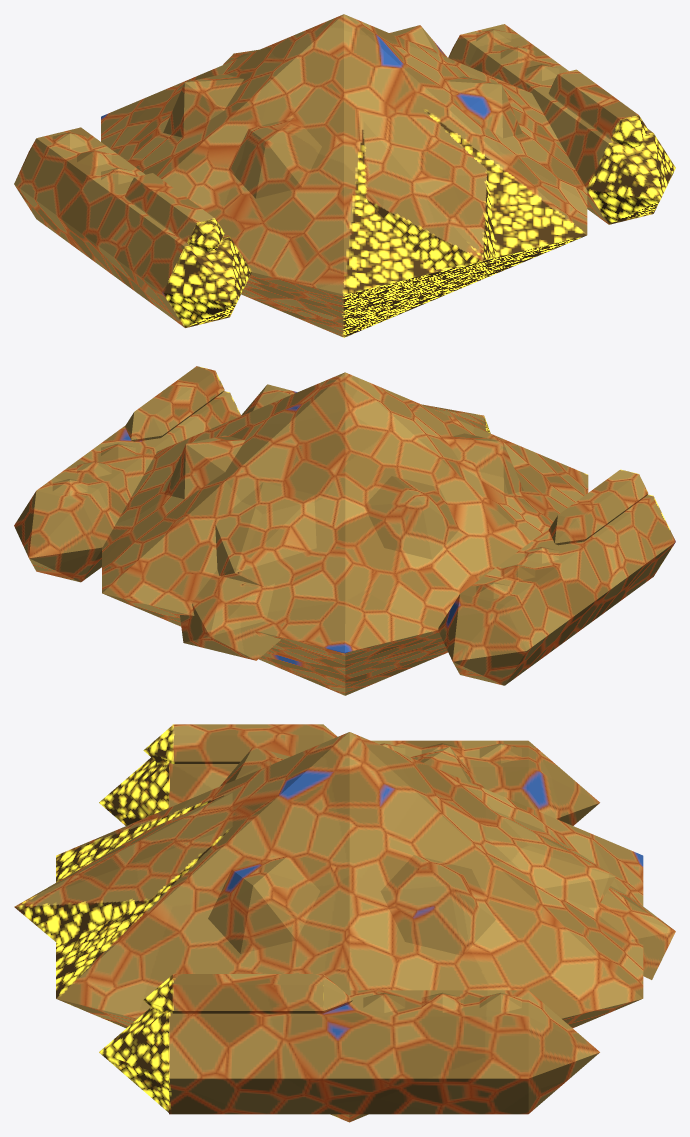
File: vraygon_monitor.glb
The picture shows the model from 3 angles, top to bottom: view 1: azimuth 30°, elevation 25°; view 2: azimuth 150°, elevation 25°; view 3: azimuth 270°, elevation 25°; orthographic projection. The views are drawn at different scales.
Parts seen in each view (by area): view 1: VraygonMonitor; view 2: VraygonMonitor; view 3: VraygonMonitor.
Part boxes in pixels (box(x1,y1,x2,y2)): VraygonMonitor: box(14, 14, 675, 337); VraygonMonitor: box(14, 366, 675, 695); VraygonMonitor: box(14, 724, 675, 1122).
Bounding box in the file's own units: 59.41 × 35.82 × 55.
1 material, 1 textured.
